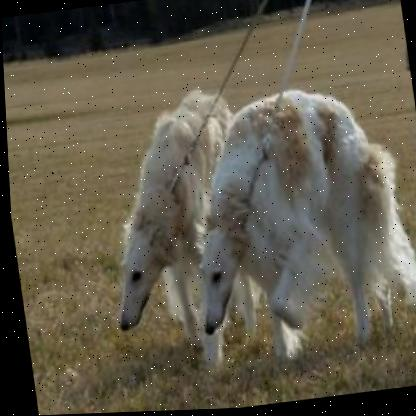dog: (170, 74, 416, 372), (79, 85, 261, 336)
